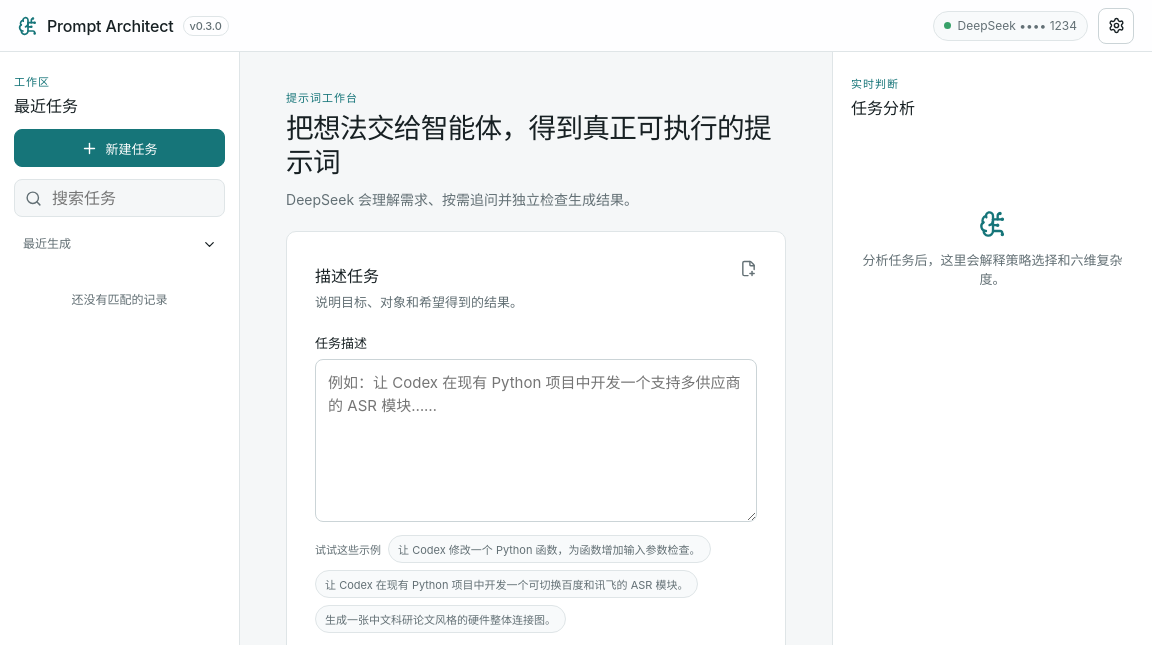
Test case: Prompt Architect workbench › shows the compact six-dimension analysis
This screenshot has width=1152, height=645.
In the text box labelled "任务描述": (536, 440) [315, 358, 757, 522], type "修改 Python 函数"
(page scrolled)
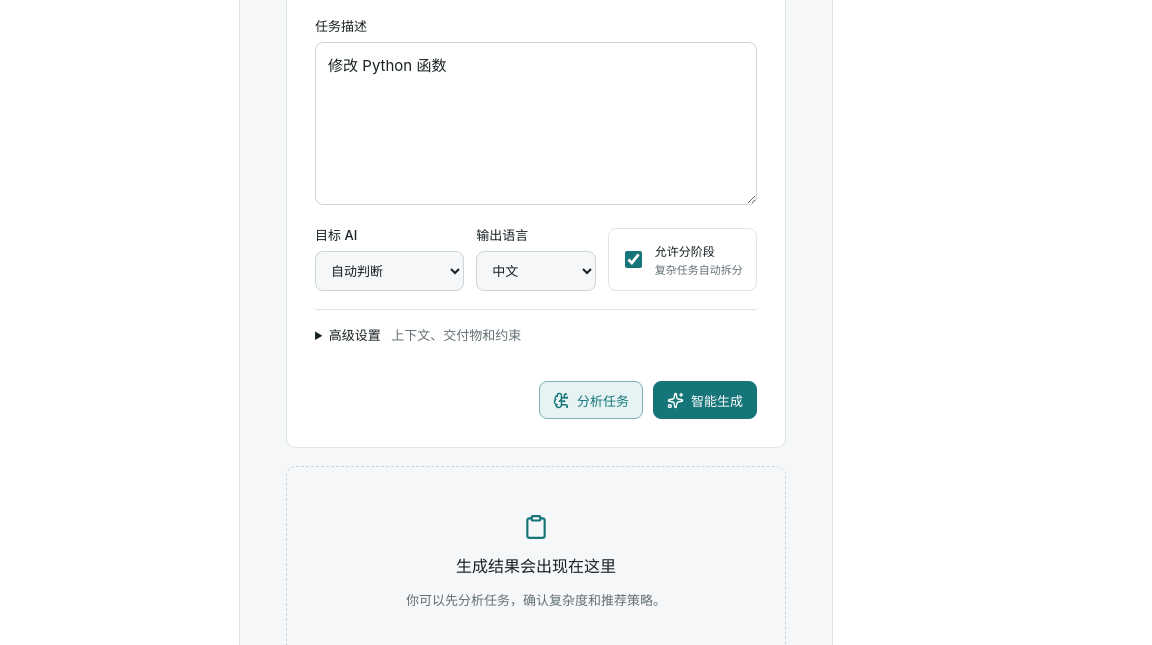
Click the button "分析任务": click(591, 400) [539, 381, 643, 419]
(page scrolled)
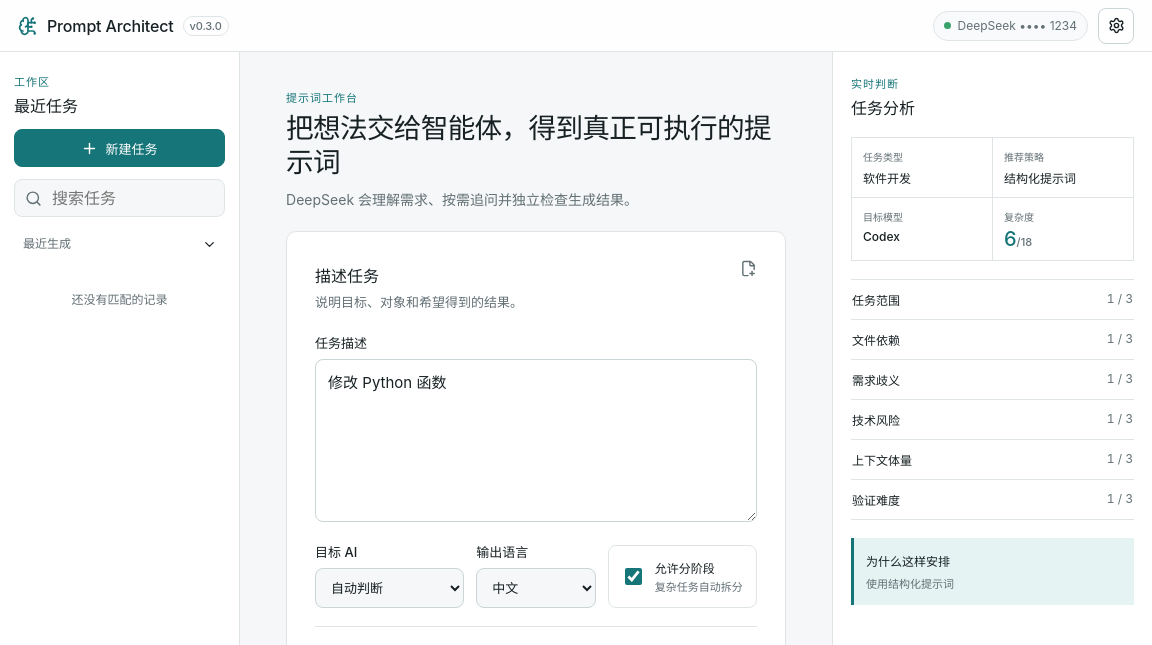
Expected: the text "软件开发" is shown, [863, 171, 911, 186]
Expected: the text "1 / 3" is shown 6 times, [1107, 291, 1133, 308]; [1107, 331, 1133, 348]; [1107, 371, 1133, 388]; [1107, 411, 1133, 428]; [1107, 451, 1133, 468]; [1107, 491, 1133, 508]
Expected: the text "6" is shown, [1004, 227, 1017, 251]
